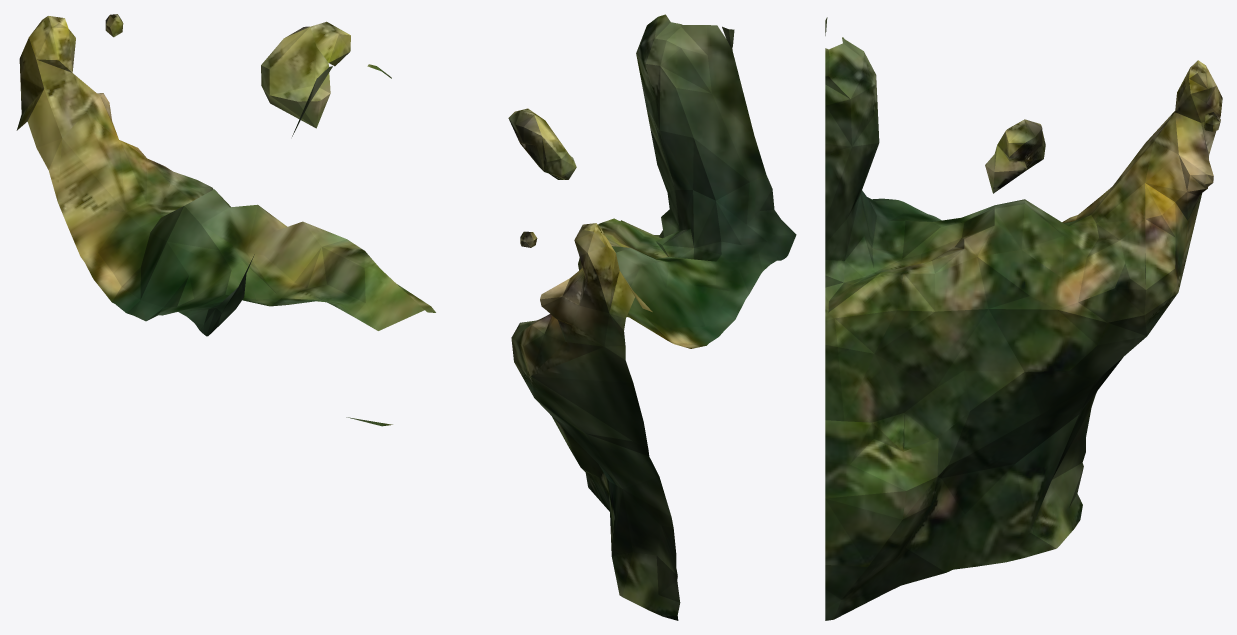
The picture shows the model from 3 angles, left to right: view 1: azimuth 30°, elevation 25°; view 2: azimuth 150°, elevation 25°; view 3: azimuth 270°, elevation 25°; orthographic projection. The views are drawn at different scales.
Size of the model in its own units: 0.3965 by 0.8373 by 0.5686.
Materials: 2 (2 with a texture image).
